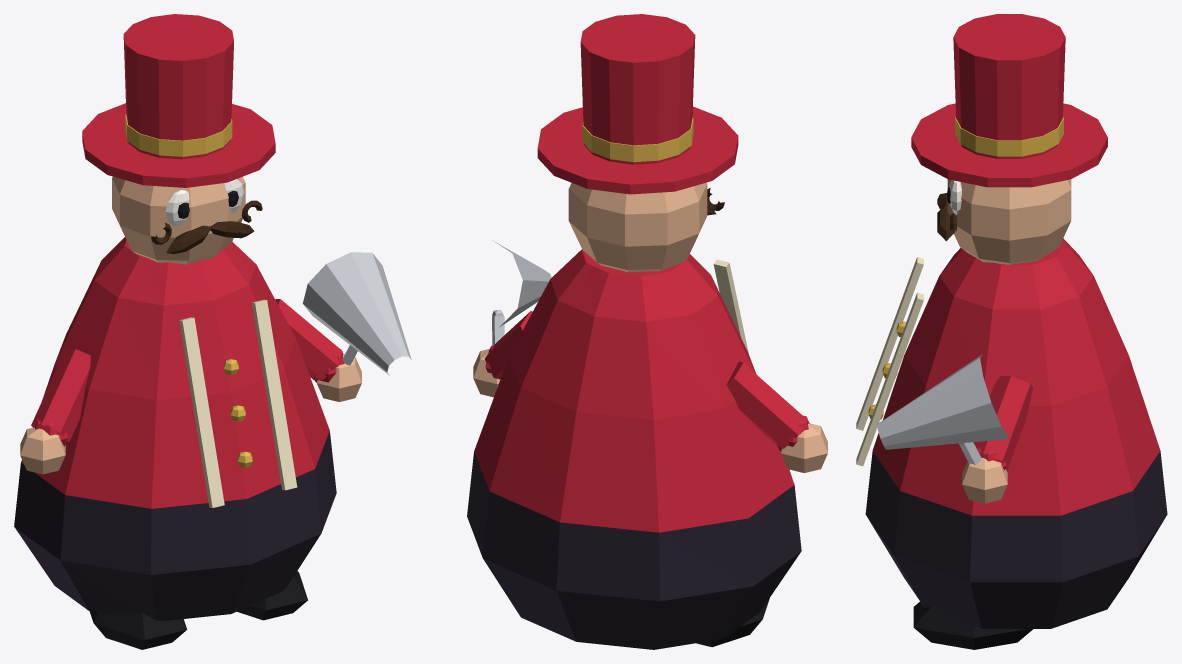
File: npc_don_tombola.glb
3 renders of one model, left to right at view 1: azimuth 30°, elevation 25°; view 2: azimuth 150°, elevation 25°; view 3: azimuth 270°, elevation 25°, orthographic. The views are drawn at different scales.
Visible parts, largest first — view 1: body_tombola_red, body_tombola_pants, hat_tombola_red, megaphone_tombola_tin, head_skin_rosada, body_tombola_stripe, arms_tombola_red, legs_black, arms_skin_rosada, hat_fair_gold, face_tombola_mustache, face_white (+1 smaller); view 2: body_tombola_red, body_tombola_pants, hat_tombola_red, head_skin_rosada, arms_tombola_red, arms_skin_rosada, hat_fair_gold, megaphone_tombola_tin, body_tombola_stripe, legs_black; view 3: body_tombola_red, body_tombola_pants, hat_tombola_red, head_skin_rosada, megaphone_tombola_tin, body_tombola_stripe, legs_black, arms_tombola_red, hat_fair_gold, arms_skin_rosada, face_tombola_mustache.
Boxes of the visible parts, box(x1,y1,x2,y2) form: body_tombola_red: box(21, 237, 329, 508); body_tombola_pants: box(14, 431, 336, 620); hat_tombola_red: box(82, 14, 275, 187); megaphone_tombola_tin: box(302, 252, 411, 375); head_skin_rosada: box(112, 176, 245, 264); body_tombola_stripe: box(179, 299, 297, 507); arms_tombola_red: box(31, 299, 344, 446); legs_black: box(89, 571, 307, 649); arms_skin_rosada: box(20, 354, 361, 474); hat_fair_gold: box(125, 114, 232, 156); face_tombola_mustache: box(151, 200, 262, 253); face_white: box(166, 179, 244, 226); body_tombola_red: box(474, 249, 794, 532); body_tombola_pants: box(467, 452, 801, 649); hat_tombola_red: box(537, 14, 738, 194); head_skin_rosada: box(568, 182, 707, 272); arms_tombola_red: box(484, 311, 809, 450); arms_skin_rosada: box(473, 349, 827, 472); hat_fair_gold: box(582, 118, 693, 162); megaphone_tombola_tin: box(492, 240, 551, 345); body_tombola_stripe: box(713, 259, 748, 353); legs_black: box(696, 598, 769, 647); body_tombola_red: box(872, 238, 1160, 515); body_tombola_pants: box(865, 451, 1167, 628); hat_tombola_red: box(911, 14, 1107, 187); head_skin_rosada: box(947, 179, 1071, 264); megaphone_tombola_tin: box(877, 354, 1009, 465); body_tombola_stripe: box(856, 257, 923, 466); legs_black: box(913, 601, 1032, 649); arms_tombola_red: box(973, 376, 1032, 470); hat_fair_gold: box(955, 117, 1063, 156); arms_skin_rosada: box(962, 457, 1007, 503); face_tombola_mustache: box(937, 193, 956, 241).
Size of the model in its own units: 1.21 by 1.81 by 0.886.
